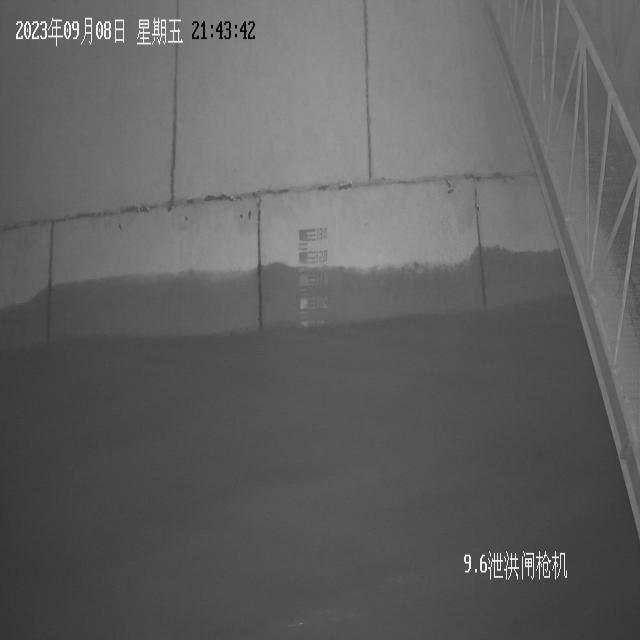ruler: (298, 222, 332, 316)
value: (315, 247, 329, 267), (316, 224, 329, 243), (316, 294, 330, 310), (316, 270, 329, 286)
